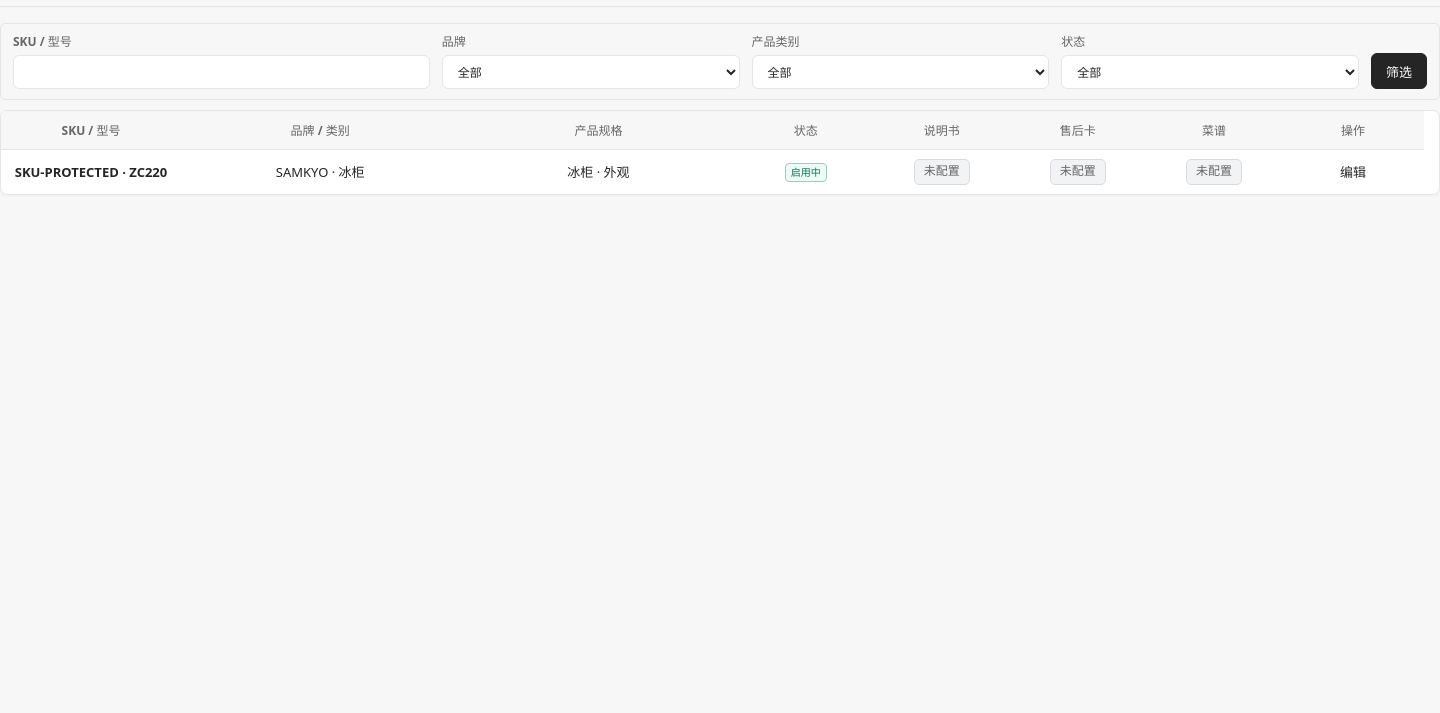
Test case: ProductsPage › shows cross-product blockers and disables central cleanup
Check: the text "SKU-PROTECTED · ZC220" is shown, box [15,162,167,180]
Click the button with aria-label "编辑 ZC220" at (1353, 172), box [1340,158,1366,186]
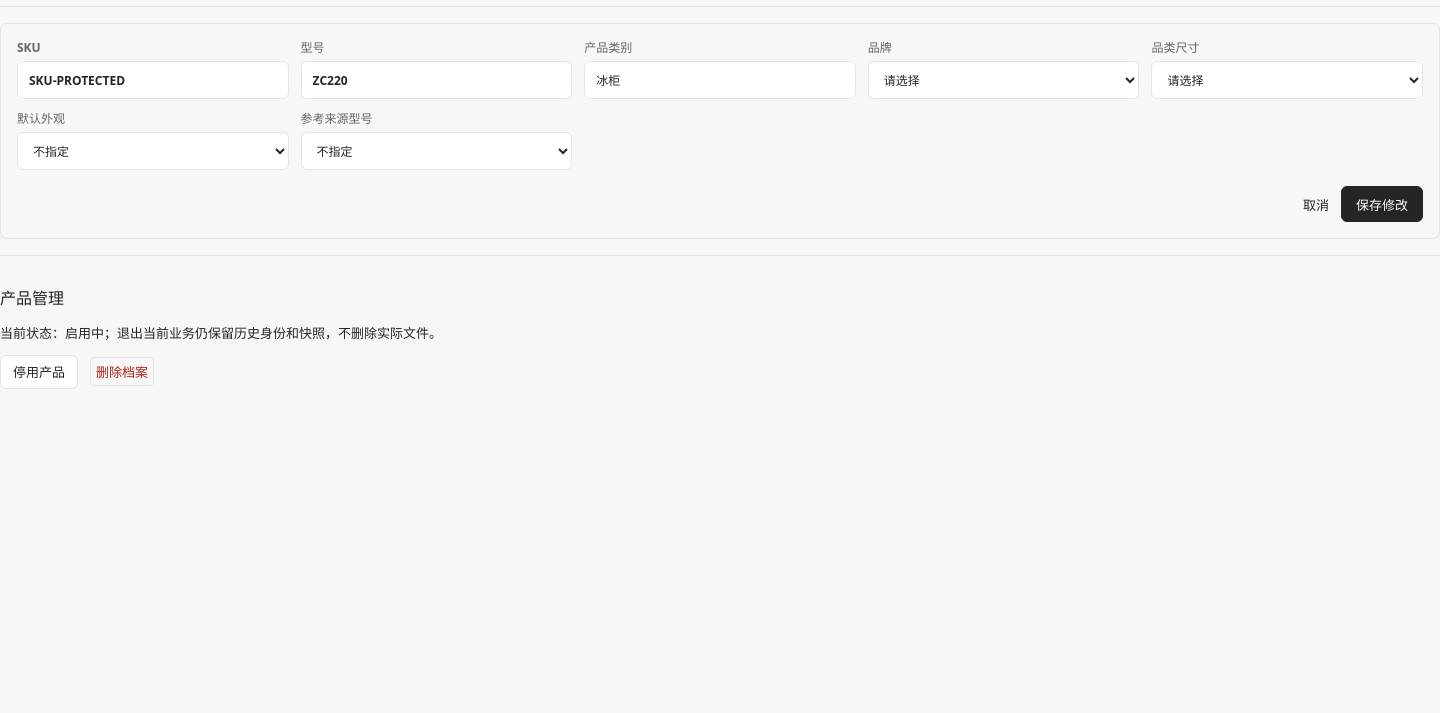
Click the button with aria-label "删除档案 ZC220" at (122, 372), box [90,357,154,386]
(page scrolled)
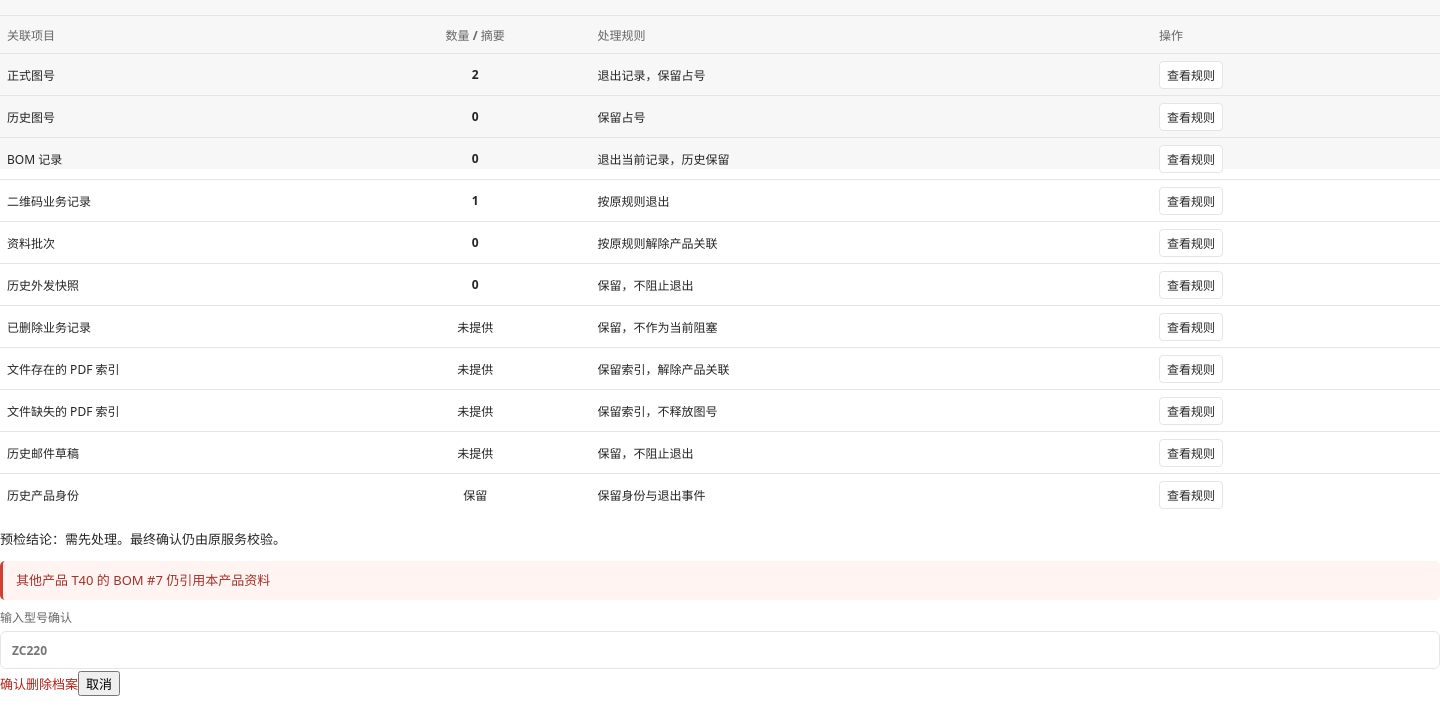
Check: the text "其他产品 T40 的 BOM #7 仍引用本产品资料" is shown, box [0,561,1439,600]
Check: the button "确认删除档案" is disabled, box [0,669,78,697]
